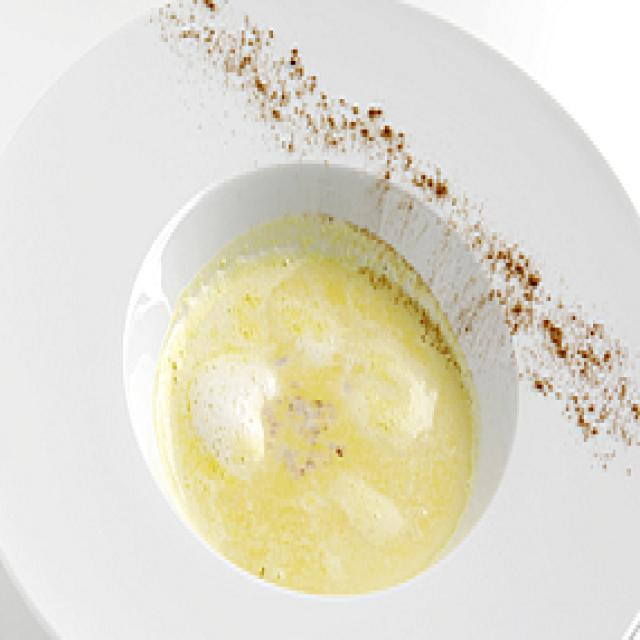汤锅炖物: (85, 172, 533, 586)
